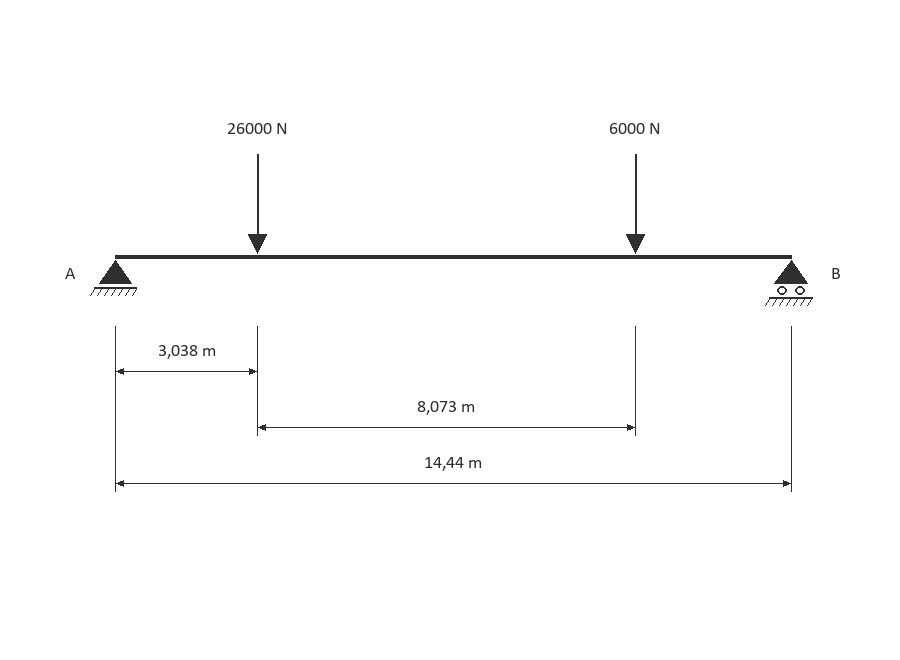pin_support: (90, 260, 137, 296)
point_load: (248, 154, 267, 254), (626, 154, 645, 254)
roller_support: (765, 260, 813, 306)
